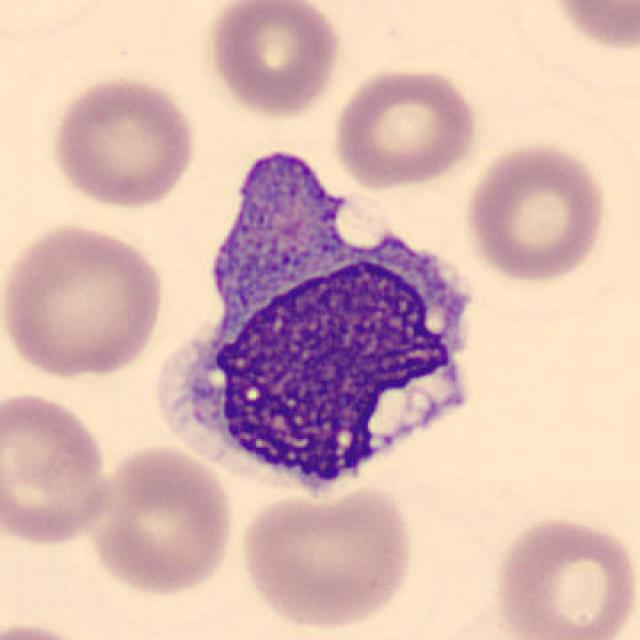Monocyte: (155, 138, 492, 513)
RBC: (235, 483, 420, 633), (0, 218, 169, 380), (84, 441, 238, 599), (462, 139, 612, 286), (45, 72, 199, 212), (329, 64, 482, 192), (491, 511, 638, 640), (0, 388, 116, 548), (204, 0, 345, 120), (544, 0, 638, 55), (0, 617, 110, 640)
